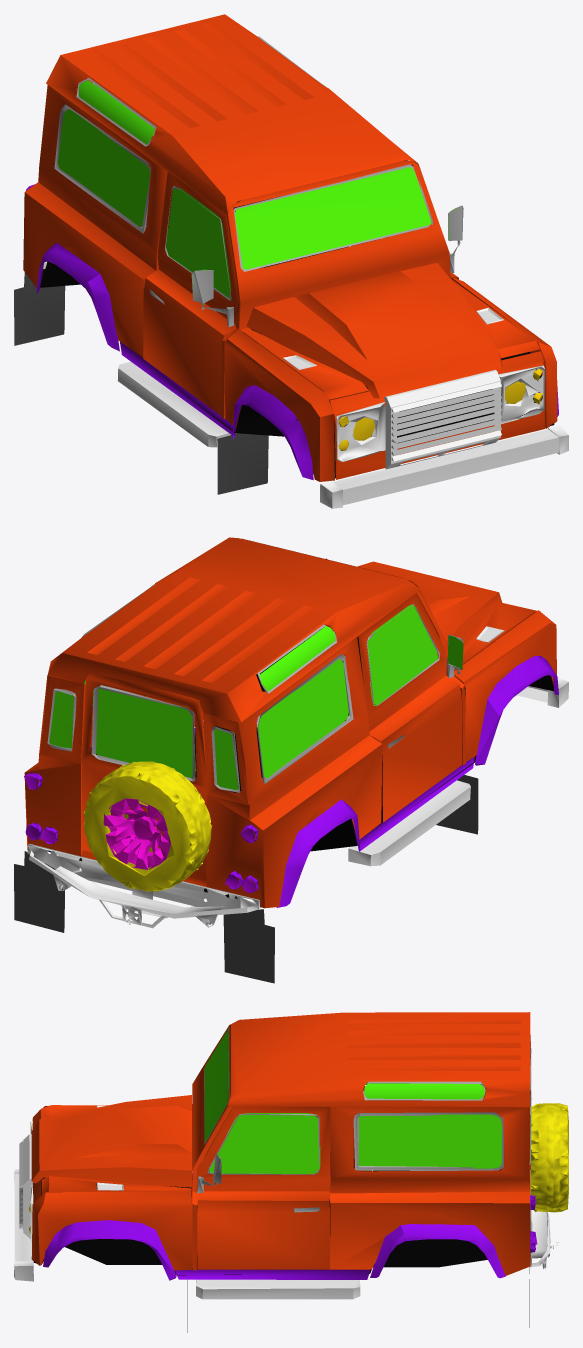
File: SUV_1_Optimal.fbx
3 renders of one model, top to bottom at view 1: azimuth 30°, elevation 25°; view 2: azimuth 150°, elevation 25°; view 3: azimuth 270°, elevation 25°, orthographic. The views are drawn at different scales.
Parts seen in each view (by area): view 1: SUV_1; view 2: SUV_1; view 3: SUV_1.
Boxes of the visible parts, <box> form: SUV_1: <box>14,14,568,508</box>; SUV_1: <box>14,537,568,983</box>; SUV_1: <box>14,1012,568,1332</box>.
Size of the model in its own units: 331 by 327 by 697.
